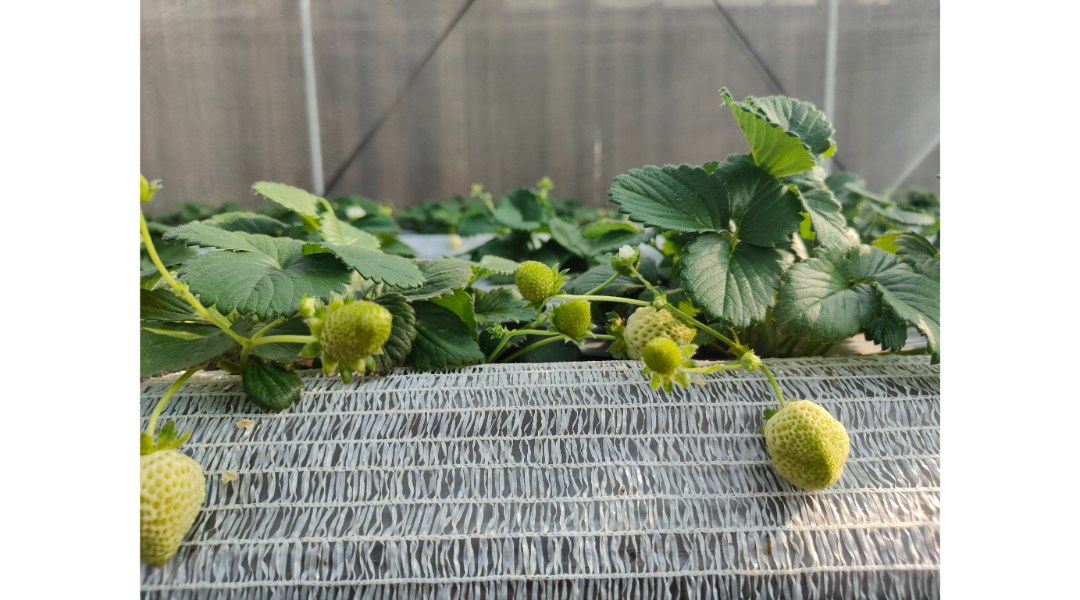berry: (102, 425, 215, 582), (759, 392, 854, 505), (306, 286, 389, 386), (494, 251, 576, 318), (631, 332, 701, 393), (615, 302, 688, 358), (550, 294, 601, 363)
strain: (120, 208, 239, 347), (142, 360, 196, 458), (665, 304, 737, 350), (559, 285, 652, 307), (260, 327, 318, 351), (583, 273, 619, 300), (629, 277, 660, 295)
